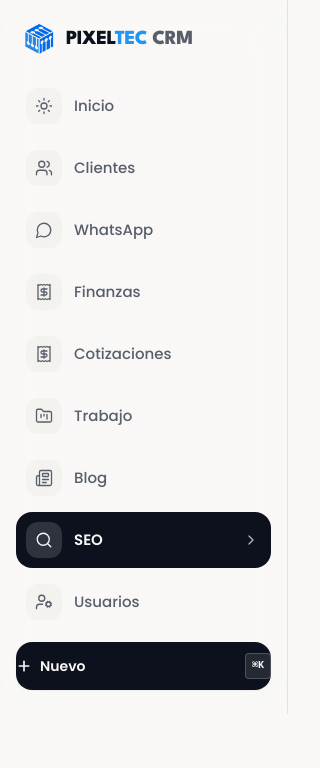
Test: submenú desplegable del sidebar › el chevron expande el submenú sin navegar
Click the button named "submenú de SEO" at (251, 540), box [237,526,265,554]
(page scrolled)
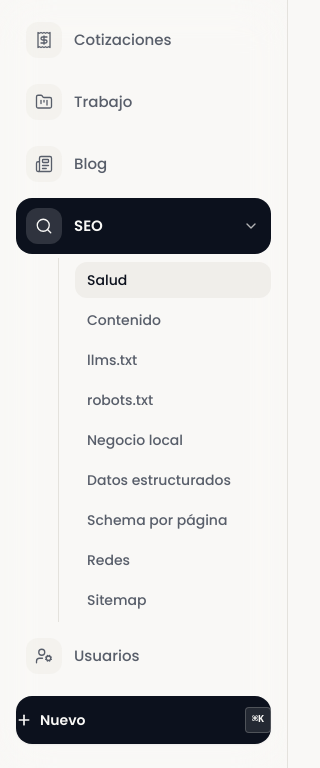
Check: the button named "submenú de SEO" is expanded, box [237,212,265,240]
Check: the link "Redes" is shown, box [87,550,130,570]
